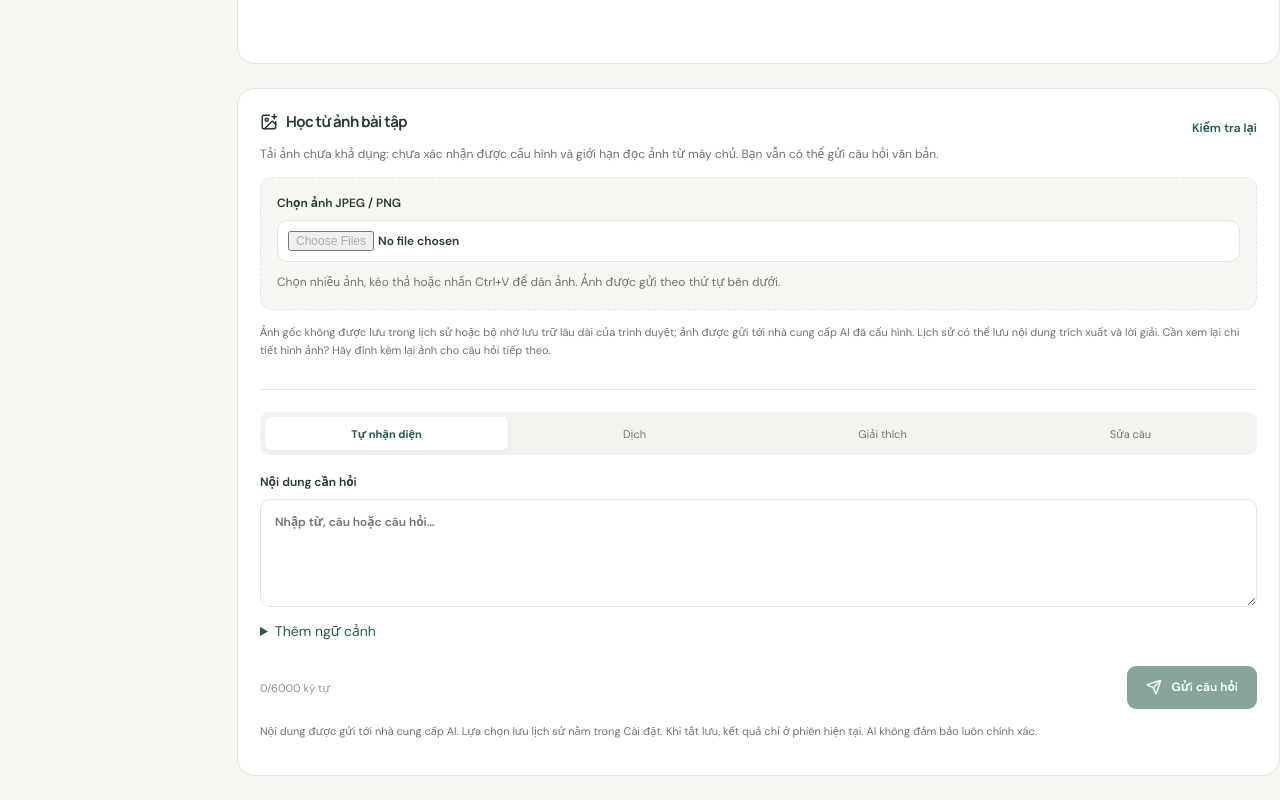
Test: Image tutoring transport and upload › fails closed for unavailable/invalid capabilities without blocking text
(page scrolled)
Check: the text "Tải ảnh chưa khả dụng" is shown, box x1=260 y1=146 x2=938 y2=162
Check: the file field labelled "Chọn ảnh JPEG / PNG" is disabled, box x1=277 y1=220 x2=1240 y2=262
Type "Hello" into the text box labelled "Nội dung cần hỏi" at (758, 553), box x1=260 y1=499 x2=1257 y2=607
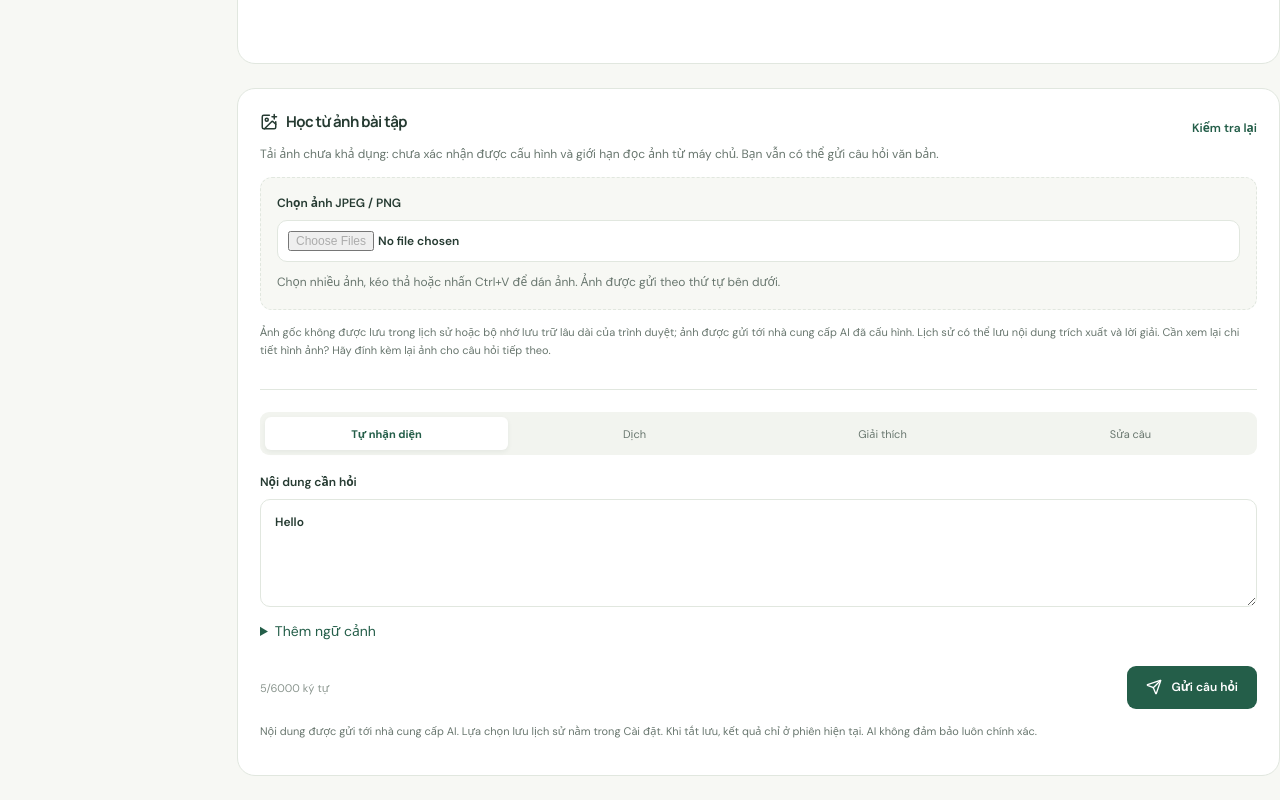
Click the button "Gửi câu hỏi" at (1192, 687), box x1=1127 y1=666 x2=1257 y2=709
(page scrolled)
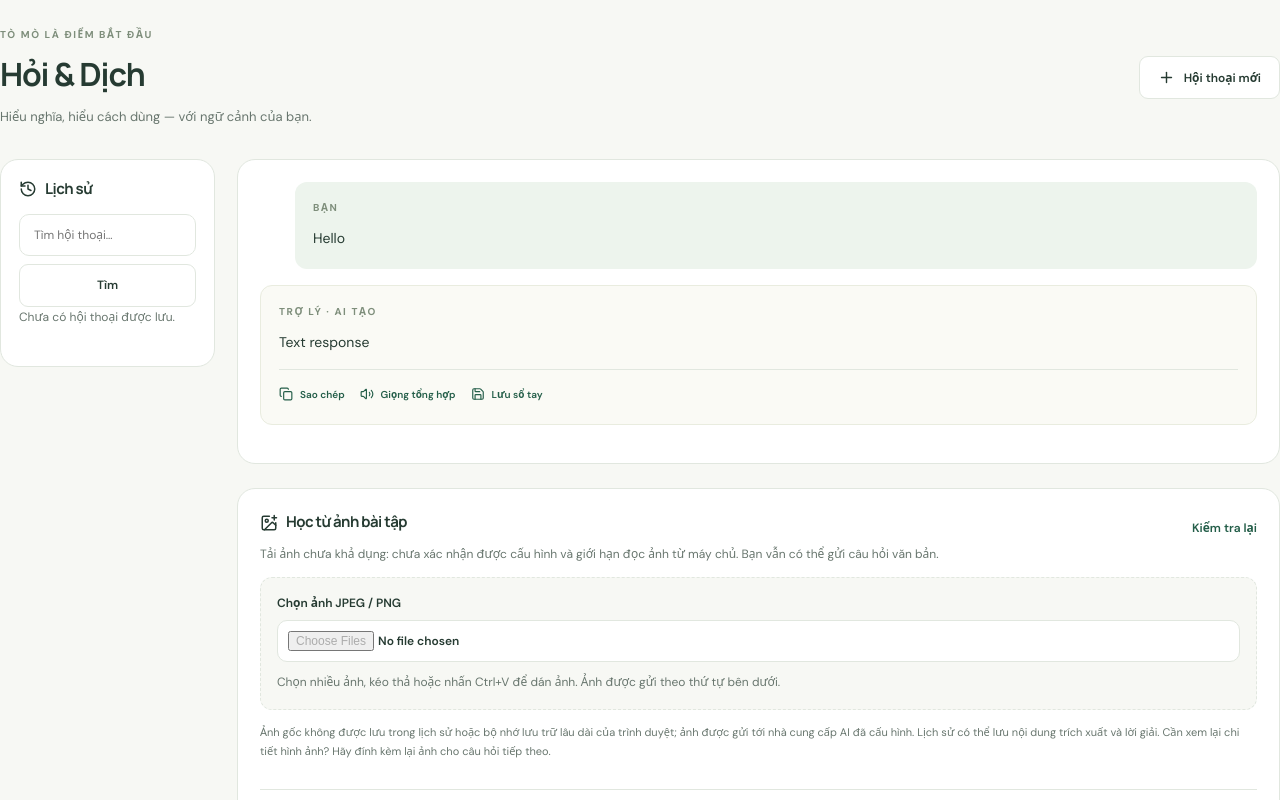
Check: the text "Text response" is shown, box x1=279 y1=333 x2=369 y2=351
